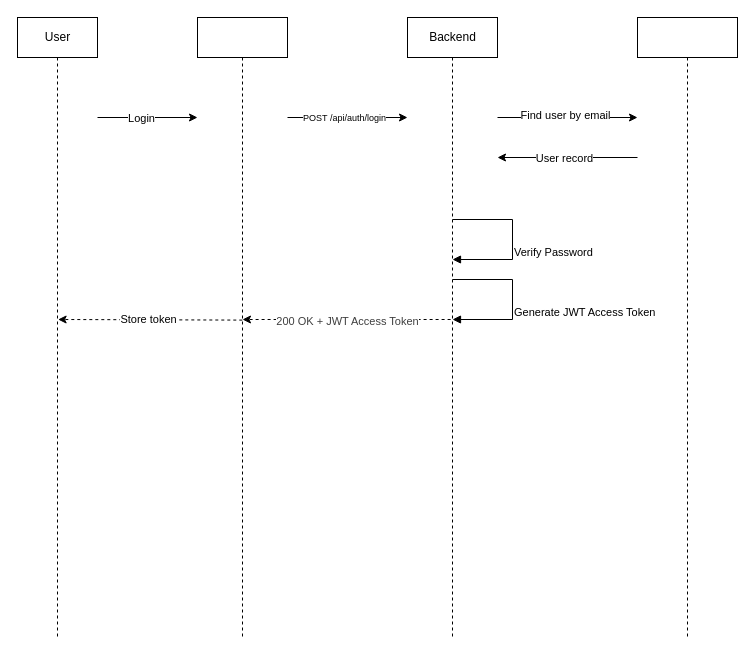
Image size: 755x655. Some labels were removed from this diagram. Each missing label, with the box of its shape:
Frontend: (196, 16, 288, 638)
PostgreSQL: (636, 16, 738, 638)
